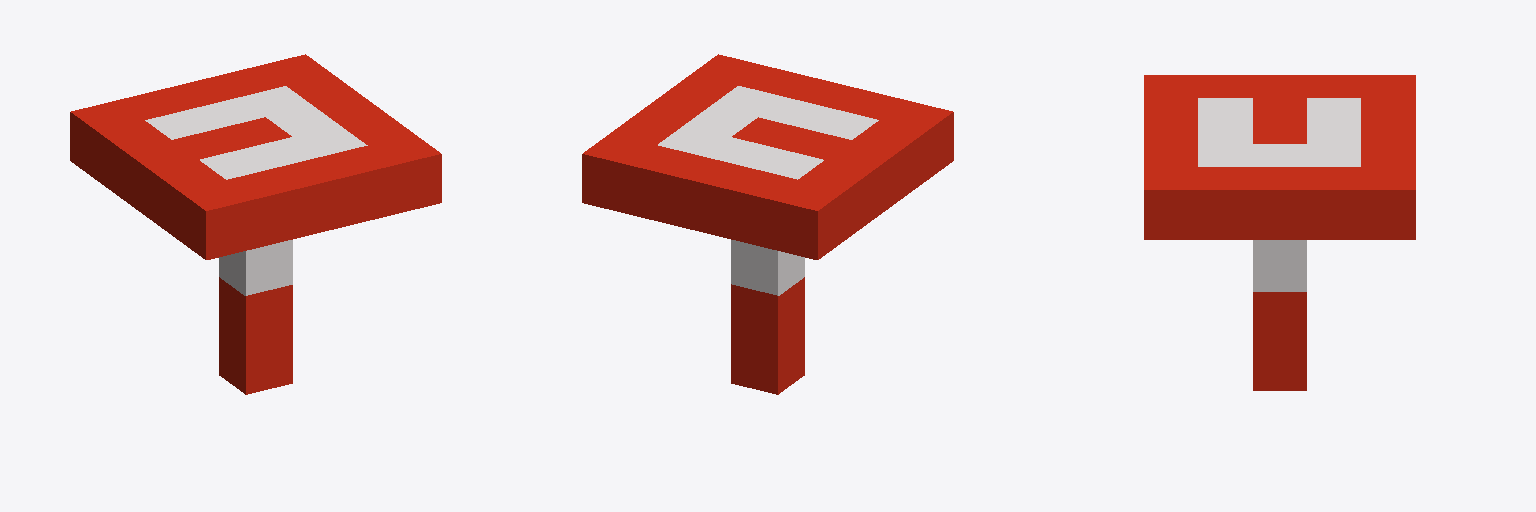
3 renders of one model, left to right at view 1: azimuth 30°, elevation 25°; view 2: azimuth 150°, elevation 25°; view 3: azimuth 270°, elevation 25°, orthographic.
Visible parts, largest first — view 1: platform.001; view 2: platform.001; view 3: platform.001.
Part boxes in pixels (x1,y1,x2,y2): platform.001: (70,54,441,394); platform.001: (582,54,953,394); platform.001: (1144,75,1415,390).
Size of the model in its own units: 0.5 by 0.5 by 0.5.
1 materials, 1 textured.